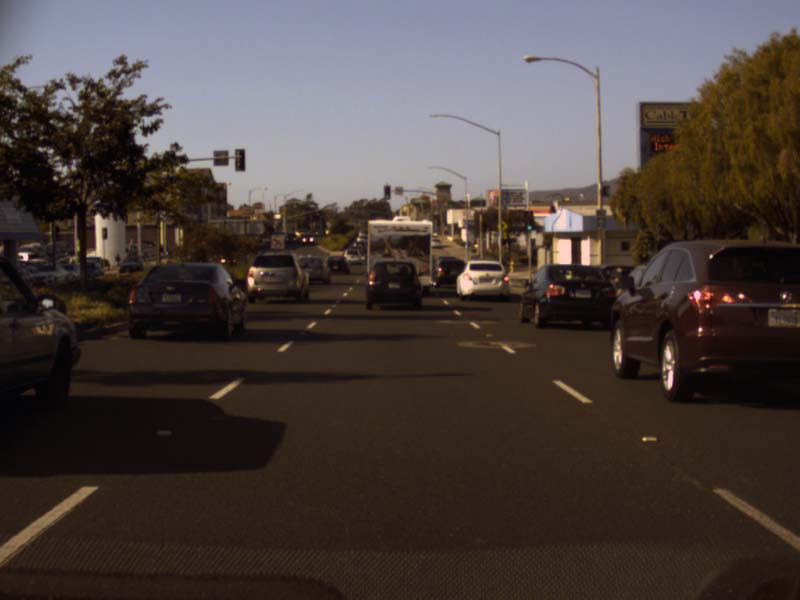Green: (524, 211, 532, 232), (384, 185, 390, 199)
